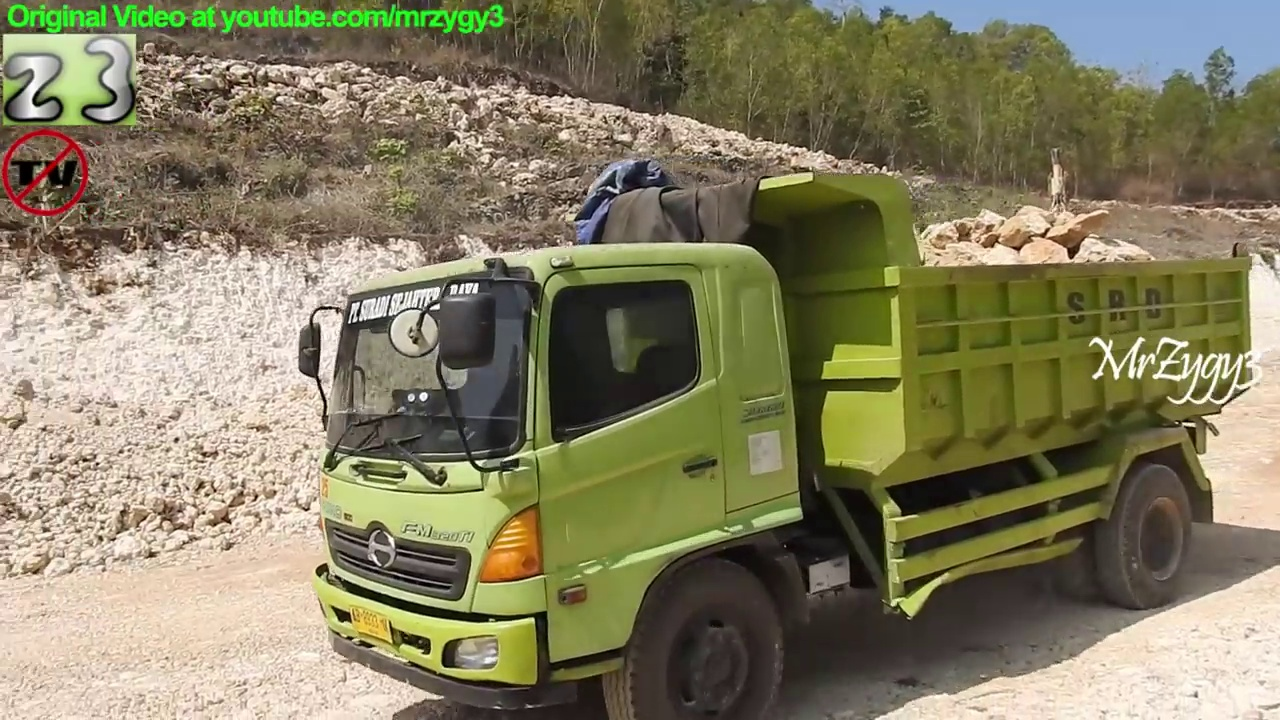excavator: (988, 141, 1140, 341)
truck: (289, 162, 1265, 720)
